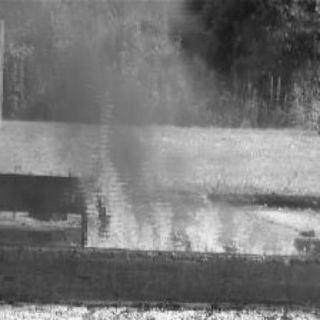Smoke: (32, 19, 178, 180)
